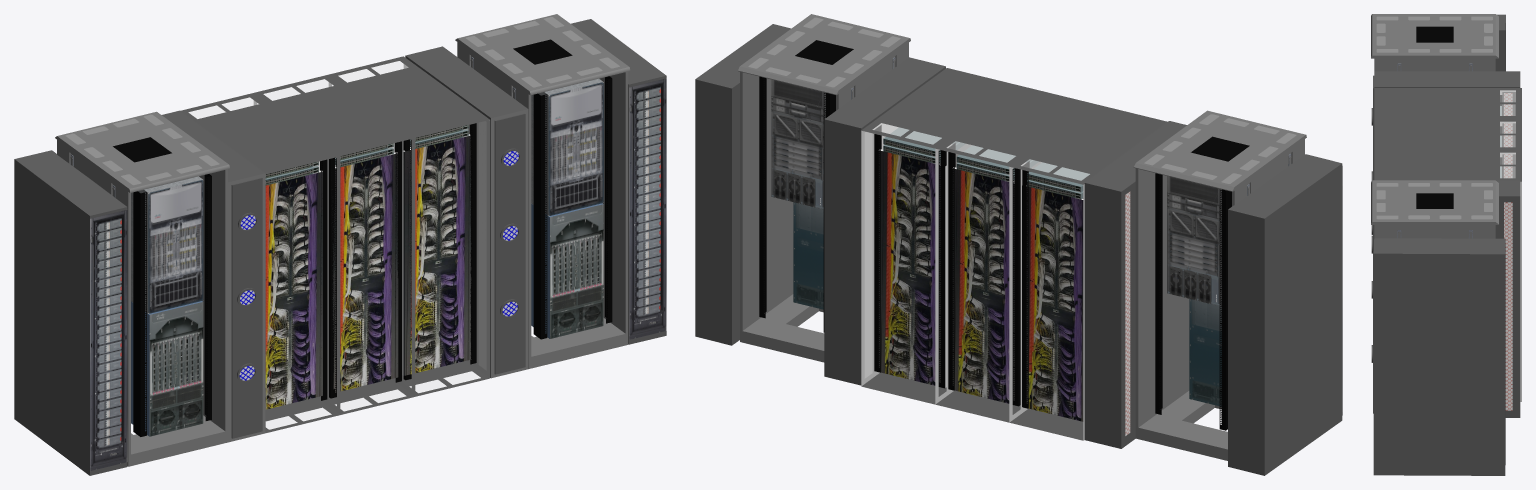
Rendered from datacenter.glb.
The picture shows the model from 3 angles, left to right: view 1: azimuth 30°, elevation 25°; view 2: azimuth 150°, elevation 25°; view 3: azimuth 270°, elevation 25°; orthographic projection. The views are drawn at different scales.
Visible parts, largest first — view 1: Object_22, Object_21, Object_9, Object_10, Object_2, Object_17, Object_14, Object_4, Object_7, Object_24, Object_8, Object_16 (+5 smaller); view 2: Object_22, Object_21, Object_9, Object_10, Object_17, Object_20, Object_5, Object_7, Object_16, Object_8, Object_25, Object_6 (+4 smaller); view 3: Object_22, Object_10, Object_9, Object_12, Object_8, Object_11, Object_24, Object_16, Object_7.
Boxes of the visible parts, x1=… form: Object_22: x1=14, y1=19, x2=666, y2=475; Object_21: x1=265, y1=135, x2=471, y2=409; Object_9: x1=55, y1=14, x2=630, y2=466; Object_10: x1=180, y1=56, x2=489, y2=432; Object_2: x1=90, y1=78, x2=666, y2=471; Object_17: x1=133, y1=76, x2=612, y2=436; Object_14: x1=148, y1=82, x2=603, y2=313; Object_4: x1=149, y1=204, x2=603, y2=436; Object_7: x1=253, y1=64, x2=490, y2=432; Object_24: x1=188, y1=61, x2=480, y2=429; Object_8: x1=65, y1=17, x2=619, y2=185; Object_16: x1=318, y1=66, x2=486, y2=375; Object_22: x1=695, y1=24, x2=1342, y2=475; Object_21: x1=878, y1=150, x2=1083, y2=421; Object_9: x1=738, y1=14, x2=1306, y2=460; Object_10: x1=861, y1=68, x2=1167, y2=440; Object_17: x1=759, y1=76, x2=1231, y2=430; Object_20: x1=771, y1=79, x2=1221, y2=306; Object_5: x1=793, y1=202, x2=1221, y2=406; Object_7: x1=861, y1=126, x2=1084, y2=440; Object_16: x1=820, y1=123, x2=1216, y2=387; Object_8: x1=748, y1=17, x2=1296, y2=183; Object_25: x1=883, y1=127, x2=1089, y2=199; Object_6: x1=883, y1=138, x2=1080, y2=199; Object_22: x1=1371, y1=14, x2=1520, y2=475; Object_10: x1=1374, y1=88, x2=1521, y2=181; Object_9: x1=1371, y1=14, x2=1498, y2=238; Object_12: x1=1504, y1=93, x2=1512, y2=410; Object_8: x1=1376, y1=16, x2=1492, y2=219; Object_11: x1=1416, y1=26, x2=1453, y2=208; Object_24: x1=1500, y1=90, x2=1515, y2=178; Object_16: x1=1520, y1=182, x2=1521, y2=401; Object_7: x1=1500, y1=90, x2=1521, y2=401.
Bounding box in the file's own units: 463 × 213 × 123.
Materials: 24 (12 with a texture image).
